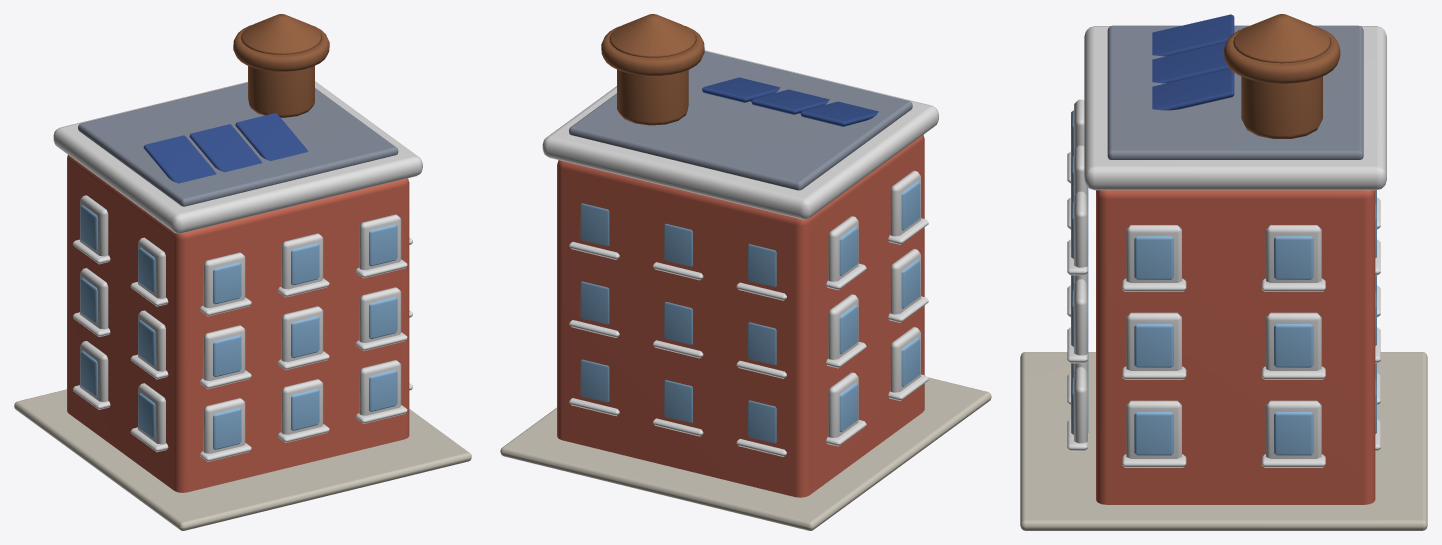
3 views of the same model, side by side, from view 1: azimuth 30°, elevation 25°; view 2: azimuth 150°, elevation 25°; view 3: azimuth 270°, elevation 25° (orthographic). The views are drawn at different scales.
Visible parts, largest first — view 1: Cube; view 2: Cube; view 3: Cube.
Boxes of the visible parts, left/top/right/bottom form: Cube: left=14, top=14, right=471, bottom=530; Cube: left=500, top=14, right=991, bottom=530; Cube: left=1020, top=14, right=1427, bottom=530.
Size of the model in its own units: 0.7 by 0.885 by 0.7.
